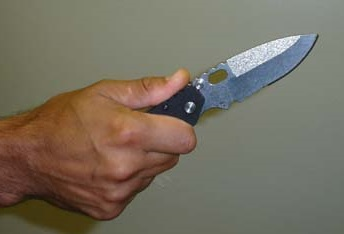knife: (126, 25, 327, 131)
